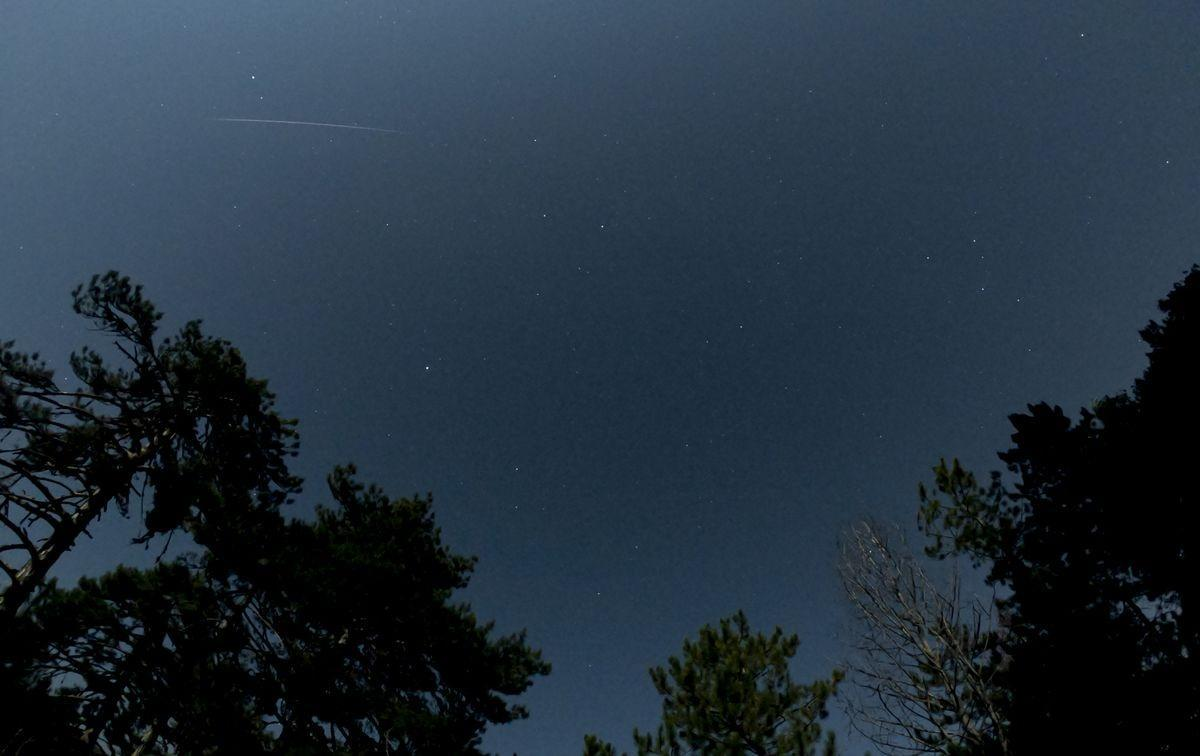meteorite: (214, 99, 406, 141)
